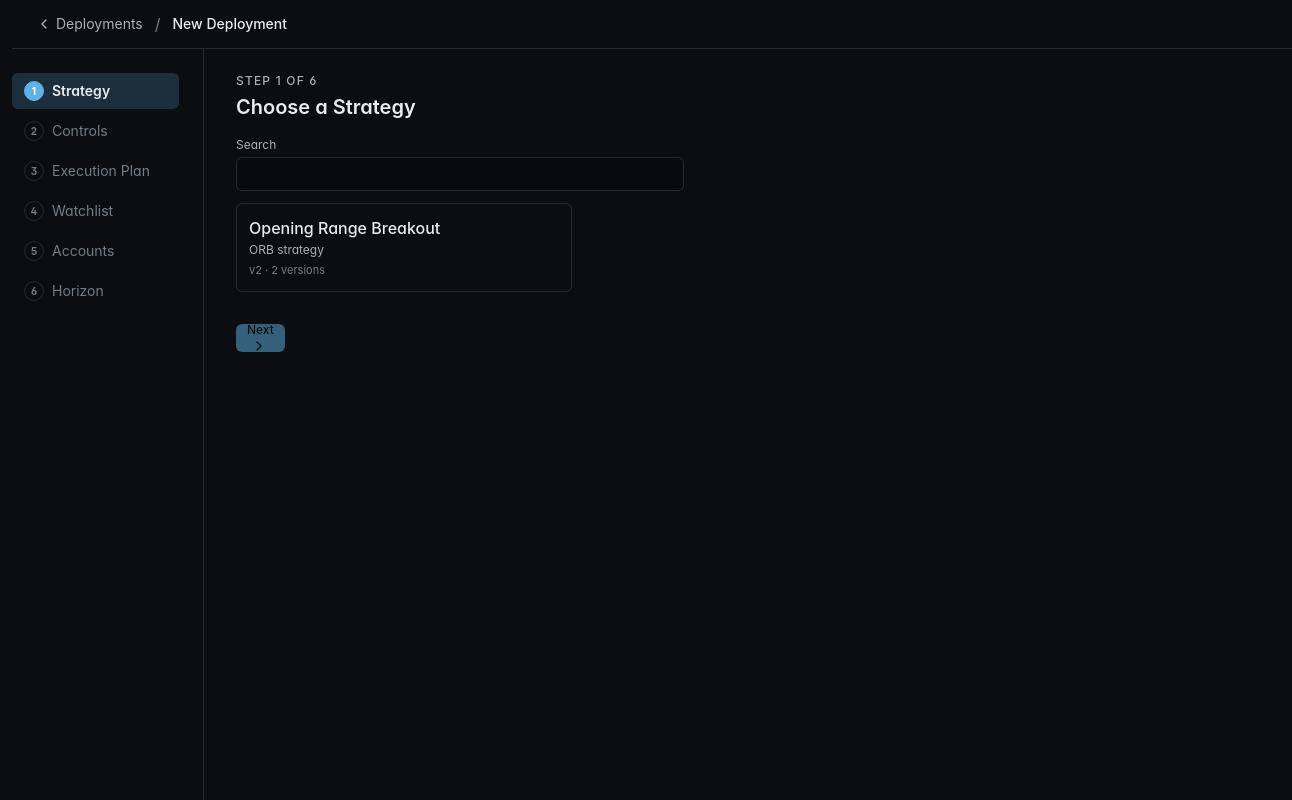
Scenario: <NewDeploymentScreen /> › advances to Step 2 after selecting a strategy
Click the text "Opening Range Breakout" at (345, 228), box [249,218,440,238]
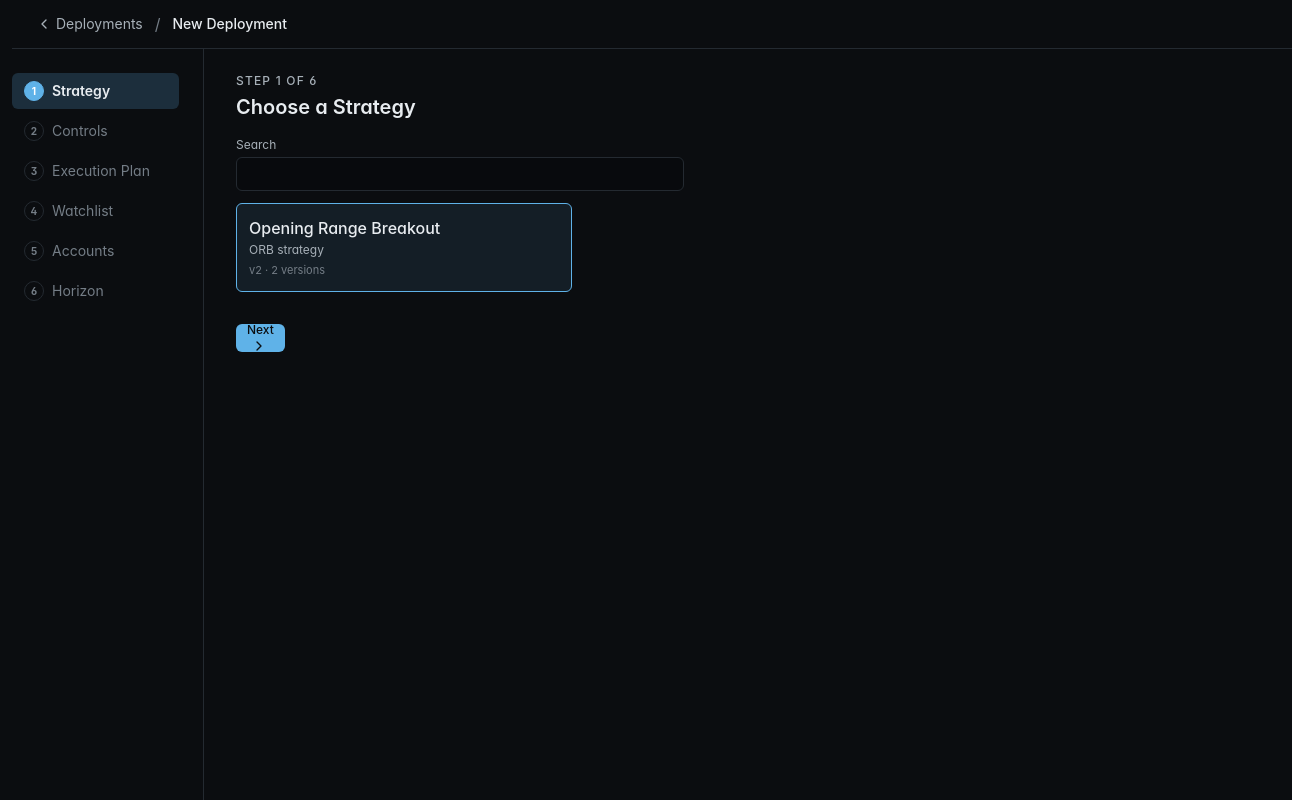
Click the button "Next" at (260, 338), box [236,324,285,352]
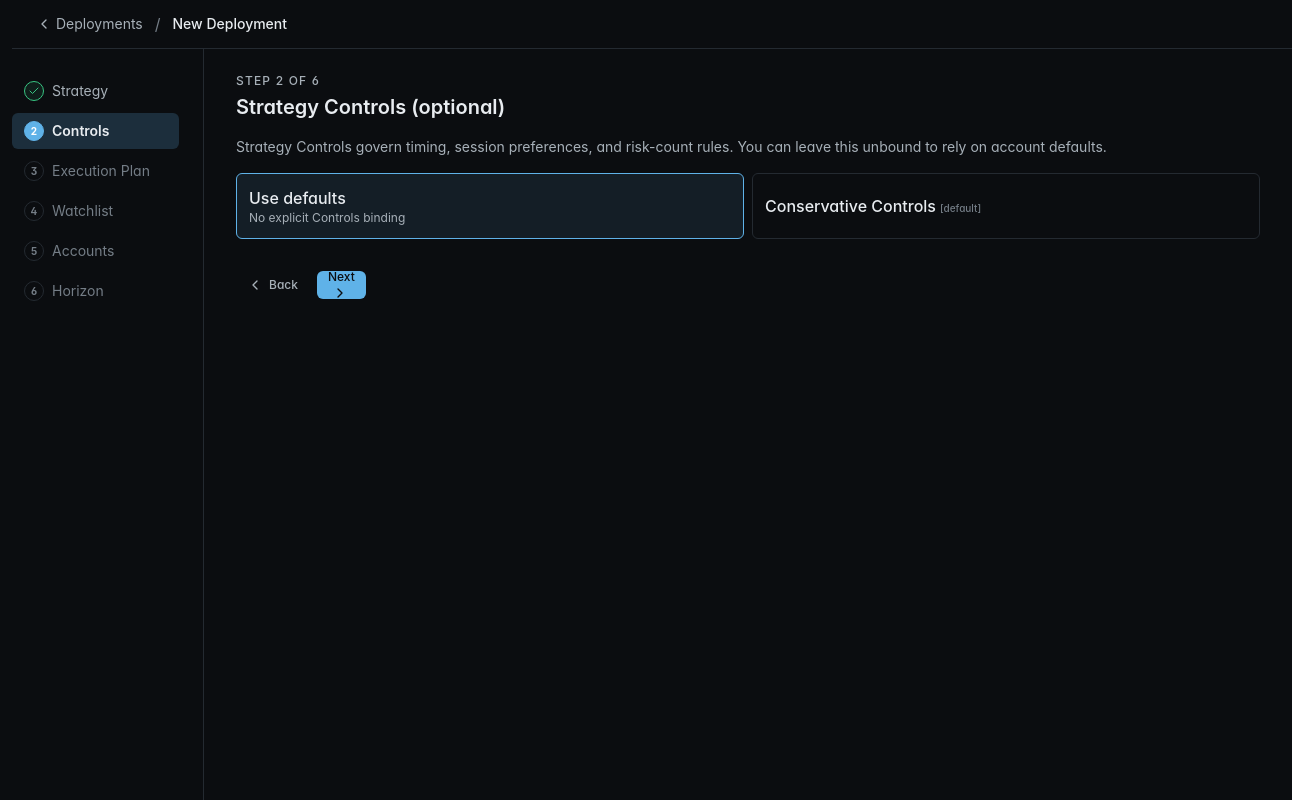
Check: the text "Step 2 of 6" is shown, box [236,73,320,88]
